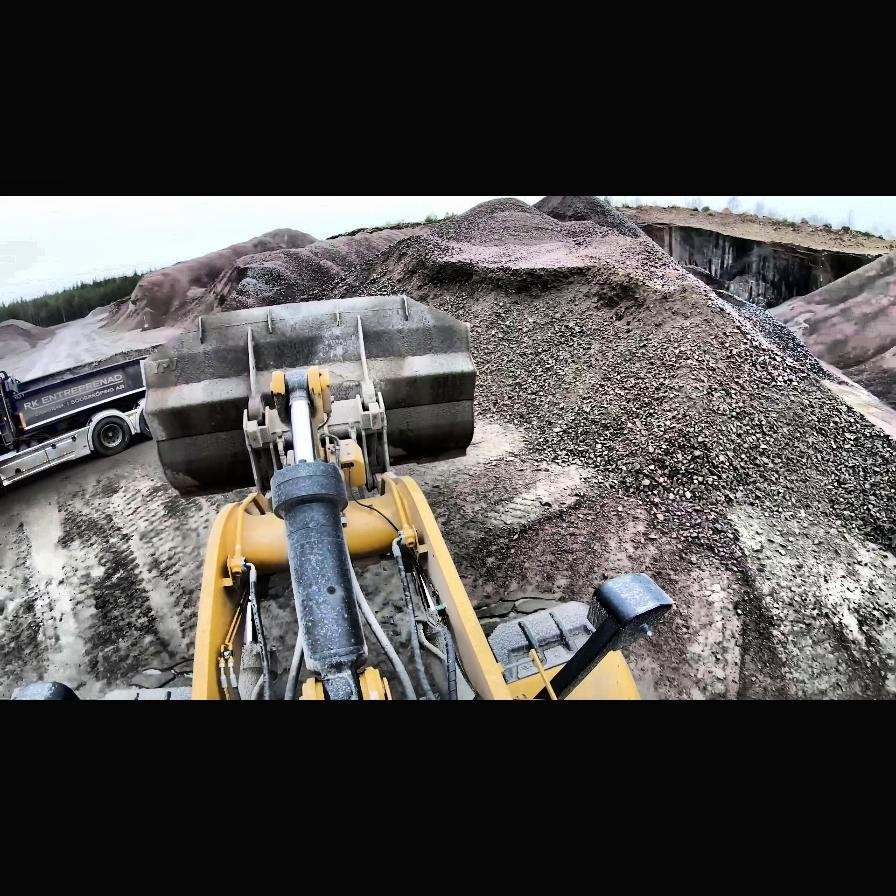anchor: (268, 364, 338, 454)
pile of gravel: (420, 196, 896, 546), (104, 229, 320, 338), (1, 318, 52, 358)
